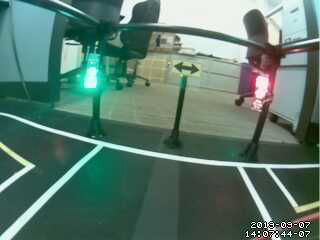Left_Right_sign: (166, 57, 208, 77)
Traffic_light_green: (83, 50, 105, 98)
Traffic_light_red: (250, 63, 278, 110)
